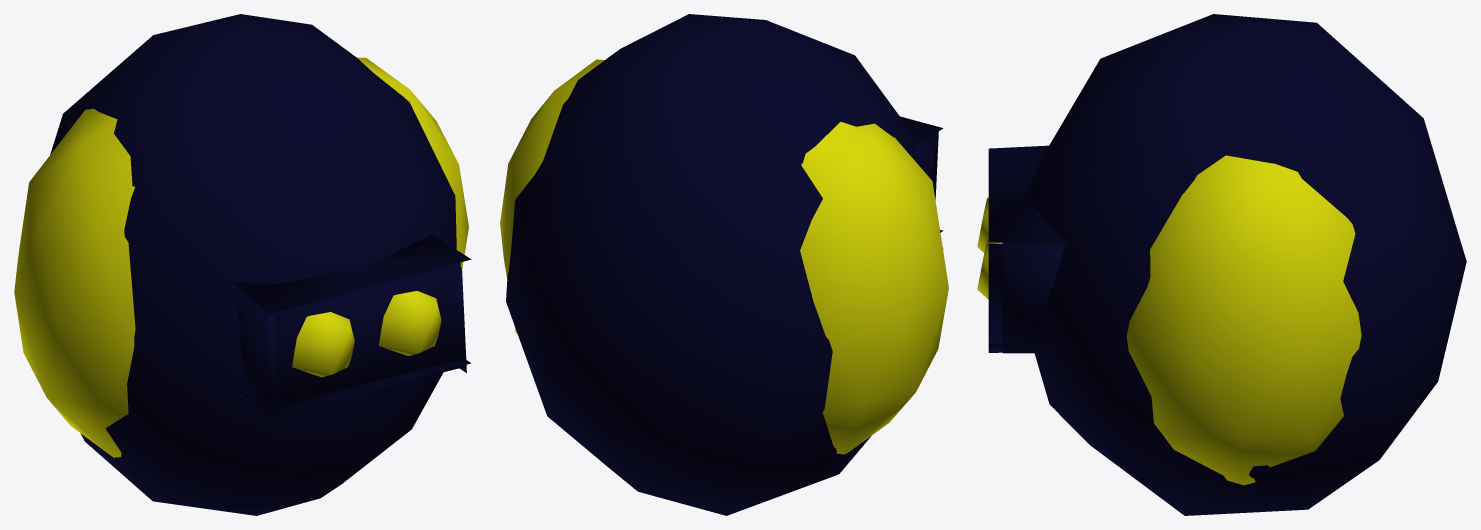
The model's file is faceman head3.dae.
3 renders of one model, left to right at view 1: azimuth 30°, elevation 25°; view 2: azimuth 150°, elevation 25°; view 3: azimuth 270°, elevation 25°, orthographic.
Parts seen in each view (by area): view 1: Sphere; view 2: Sphere; view 3: Sphere.
Boxes of the visible parts, bbox=[...] form: Sphere: bbox=[14, 14, 471, 515]; Sphere: bbox=[500, 14, 948, 515]; Sphere: bbox=[977, 14, 1466, 515].
Bounding box in the file's own units: 0.1744 × 0.1788 × 0.1925.
1 material, 1 textured.
